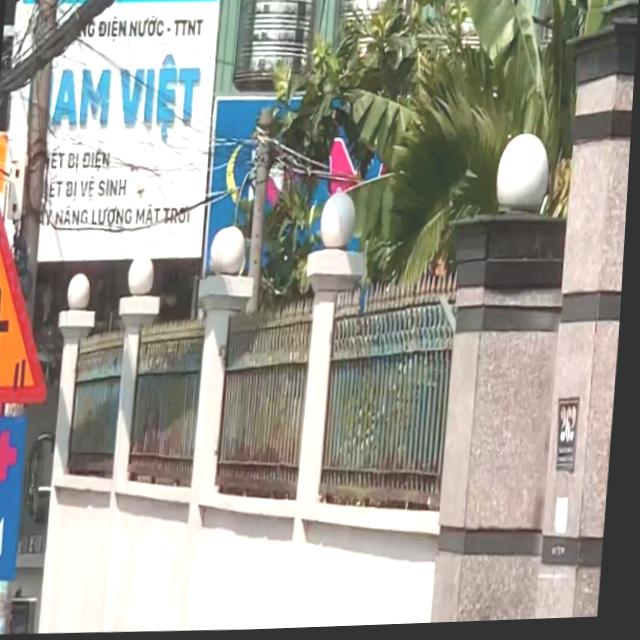Giao nhau voi duong khong uu tien ben phai: (0, 200, 72, 408)
